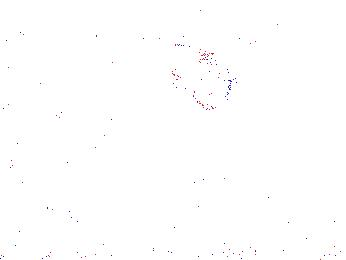flame jellyfish: (145, 151, 209, 225), (5, 167, 76, 221), (168, 57, 238, 111)
